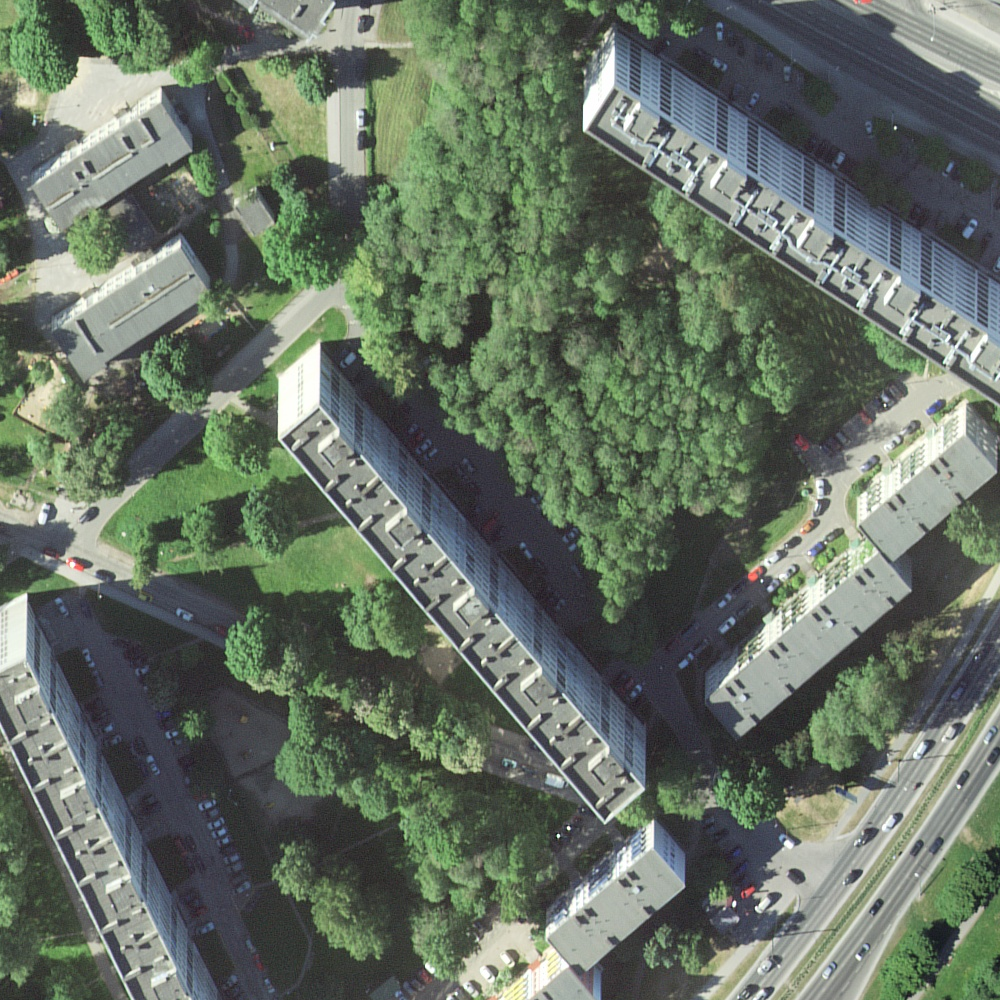building: (279, 406, 645, 826), (583, 86, 1000, 408), (1, 658, 195, 998), (704, 552, 914, 741), (51, 250, 210, 382), (32, 103, 193, 230), (857, 435, 999, 566), (546, 847, 686, 976), (529, 968, 598, 999)
